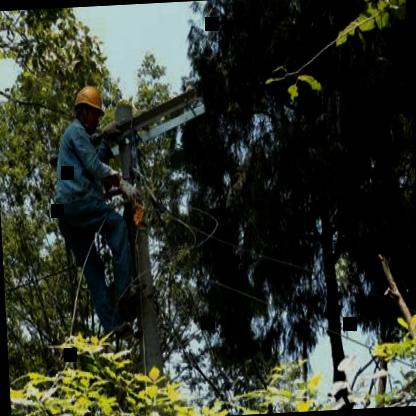helmet: (69, 82, 105, 134)
